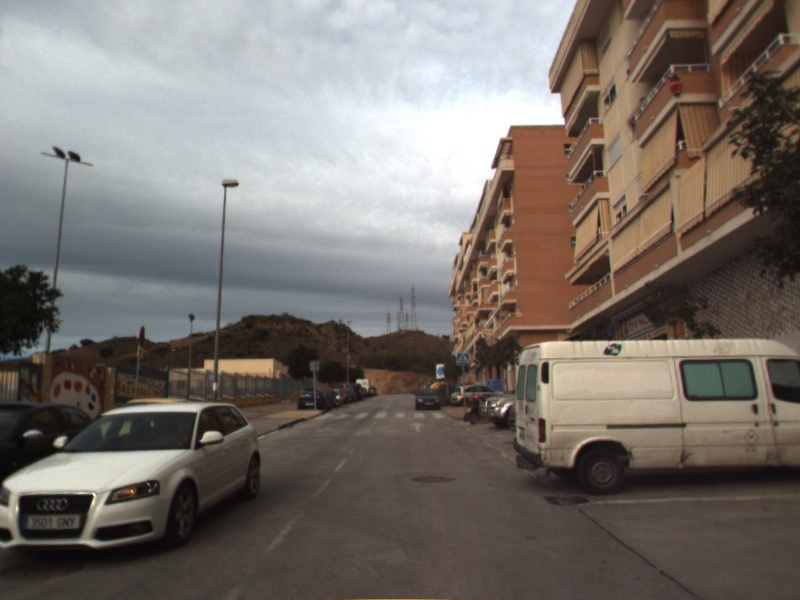STRAIGHT: (406, 419, 428, 434)
